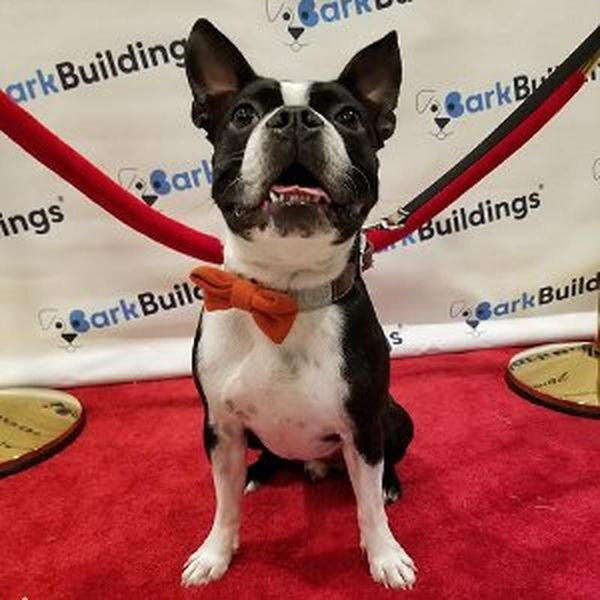allqu: (127, 13, 438, 595)
